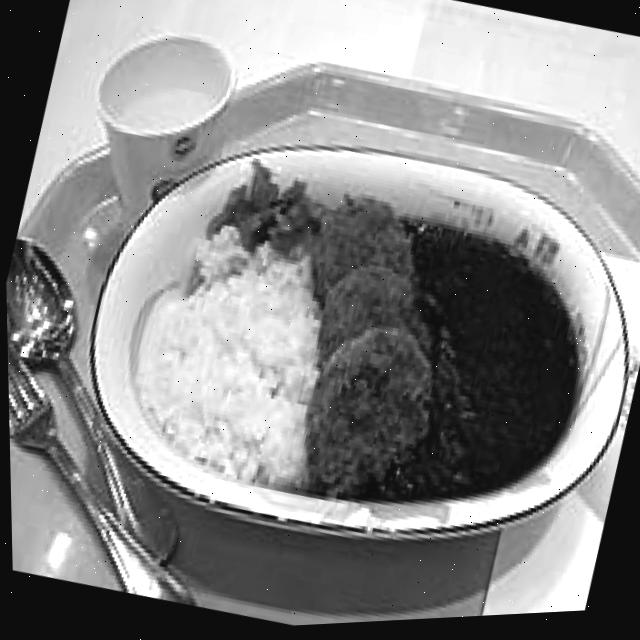猪肉菜式: (39, 71, 640, 619)
